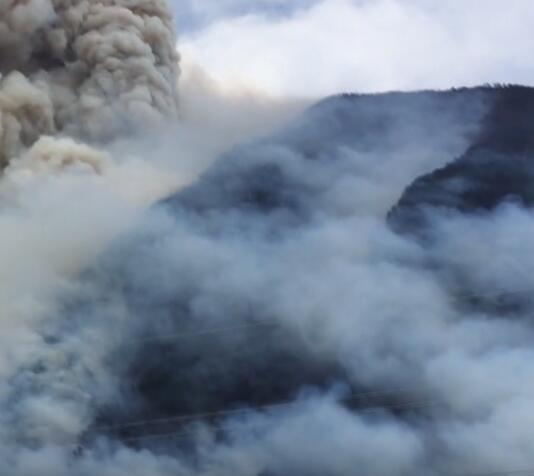yanwu: (0, 1, 533, 474)
